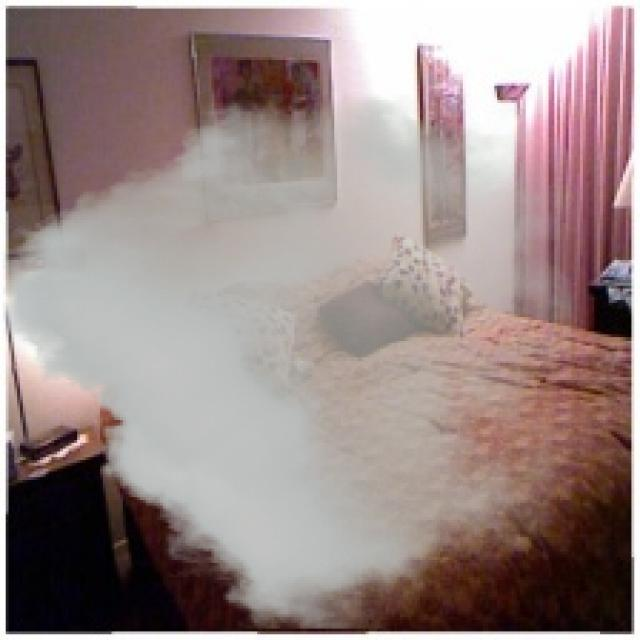smoke: (3, 94, 571, 629)
